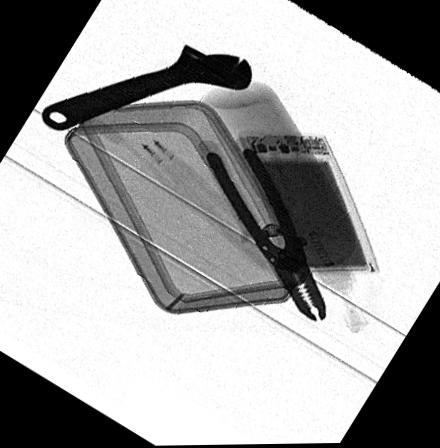Pliers: (203, 146, 327, 322)
Powerbank: (236, 137, 380, 271)
Wrench: (40, 44, 256, 132)
